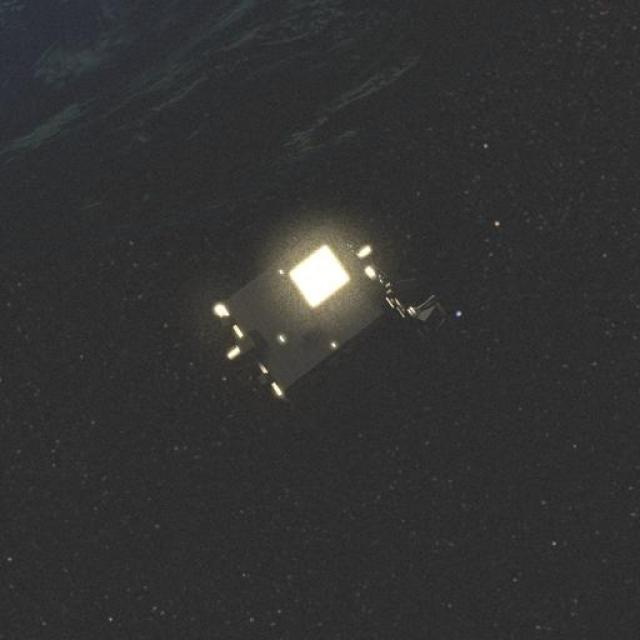proba_3_ocs: (203, 213, 449, 386)
